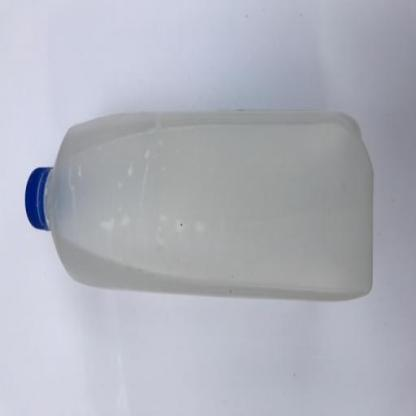trash: (24, 108, 378, 304)
